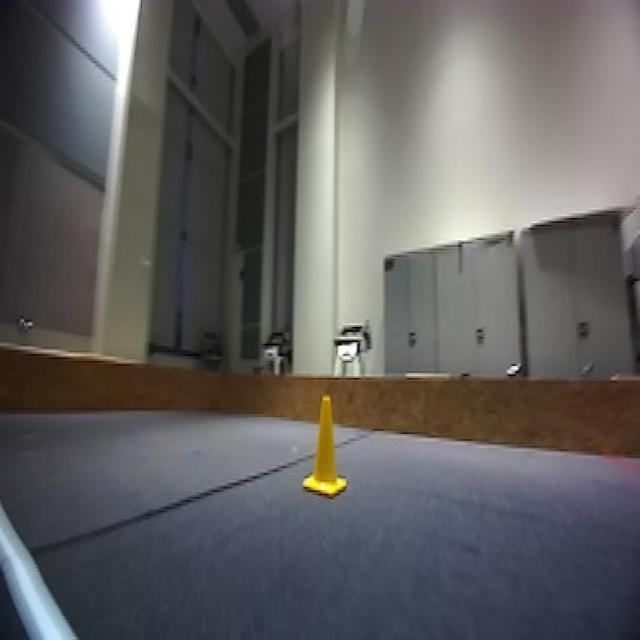frc_cone: (303, 393, 350, 504)
